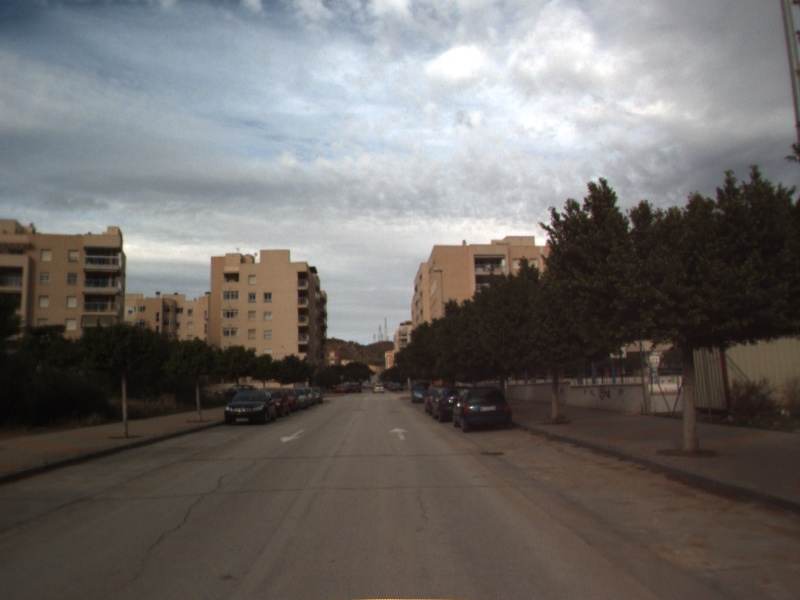STRAIGHT: (387, 425, 411, 442)
